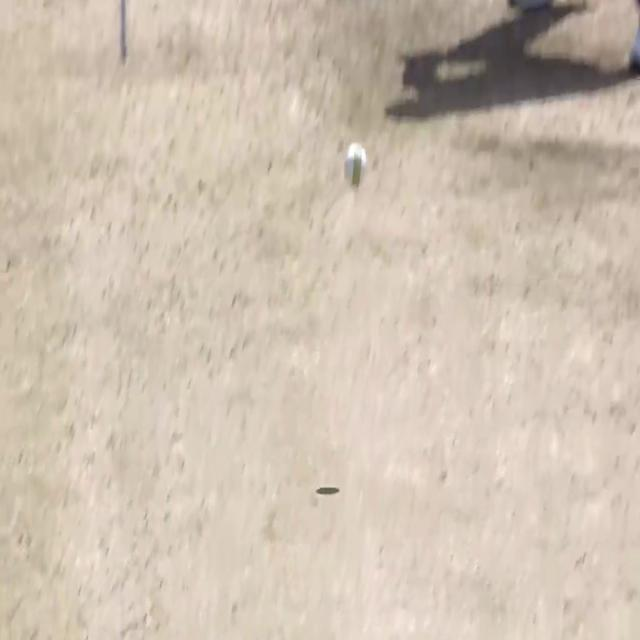ball: (343, 142, 369, 187)
